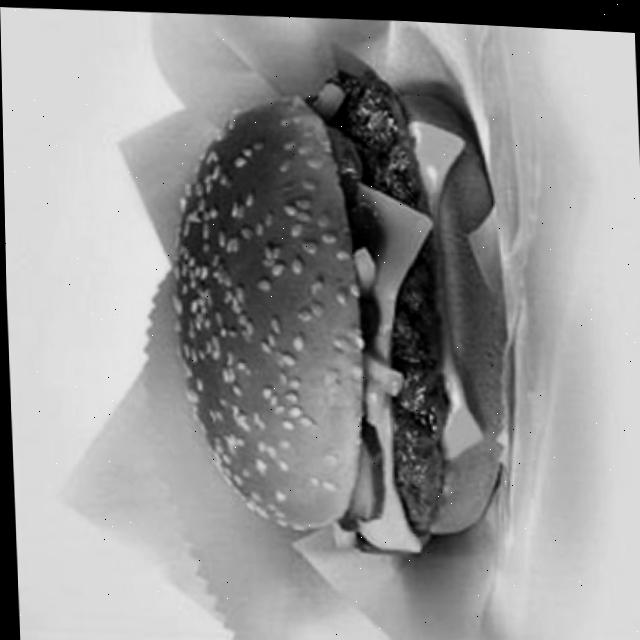汉堡快餐: (165, 36, 528, 569)
